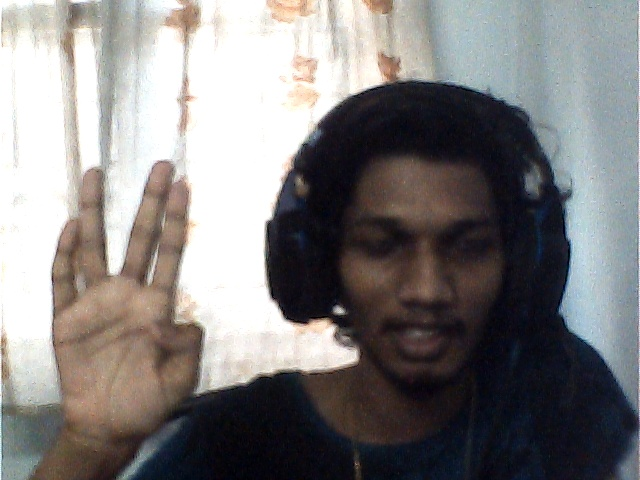LiveLong: (52, 162, 204, 445)
